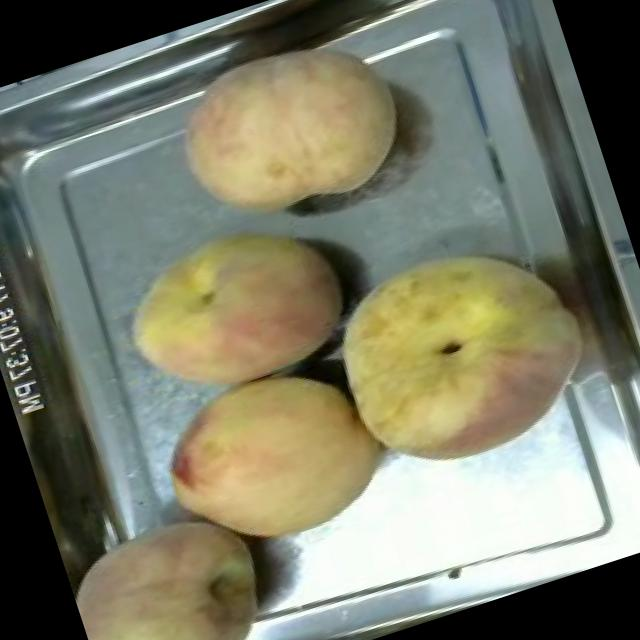Fruit: (305, 210, 617, 500), (148, 9, 426, 250), (137, 346, 406, 580), (100, 195, 370, 418), (57, 488, 297, 640)
